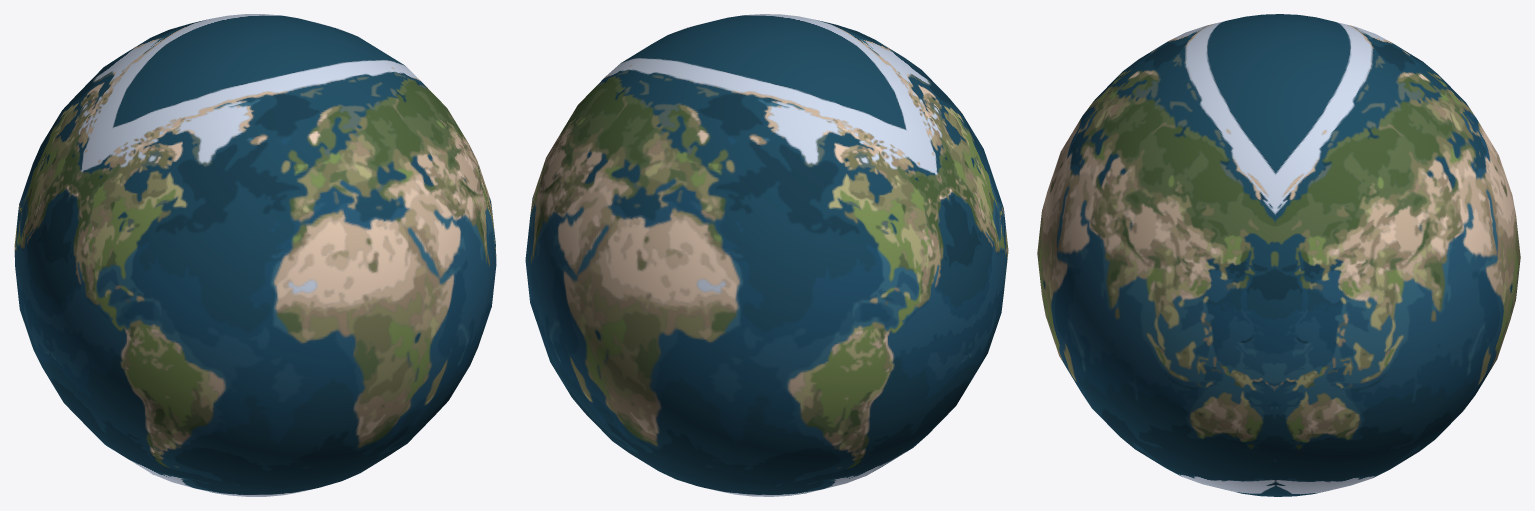
The model's file is ENV2010040.fbx.
3 renders of one model, left to right at view 1: azimuth 30°, elevation 25°; view 2: azimuth 150°, elevation 25°; view 3: azimuth 270°, elevation 25°, orthographic.
Parts seen in each view (by area): view 1: smENV2010040; view 2: smENV2010040; view 3: smENV2010040.
Boxes of the visible parts, x1,y1,x2,y2 form: smENV2010040: [14, 14, 496, 496]; smENV2010040: [525, 14, 1008, 496]; smENV2010040: [1037, 14, 1520, 496].
Size of the model in its own units: 18.52 by 18.52 by 18.52.
1 material, 1 textured.
